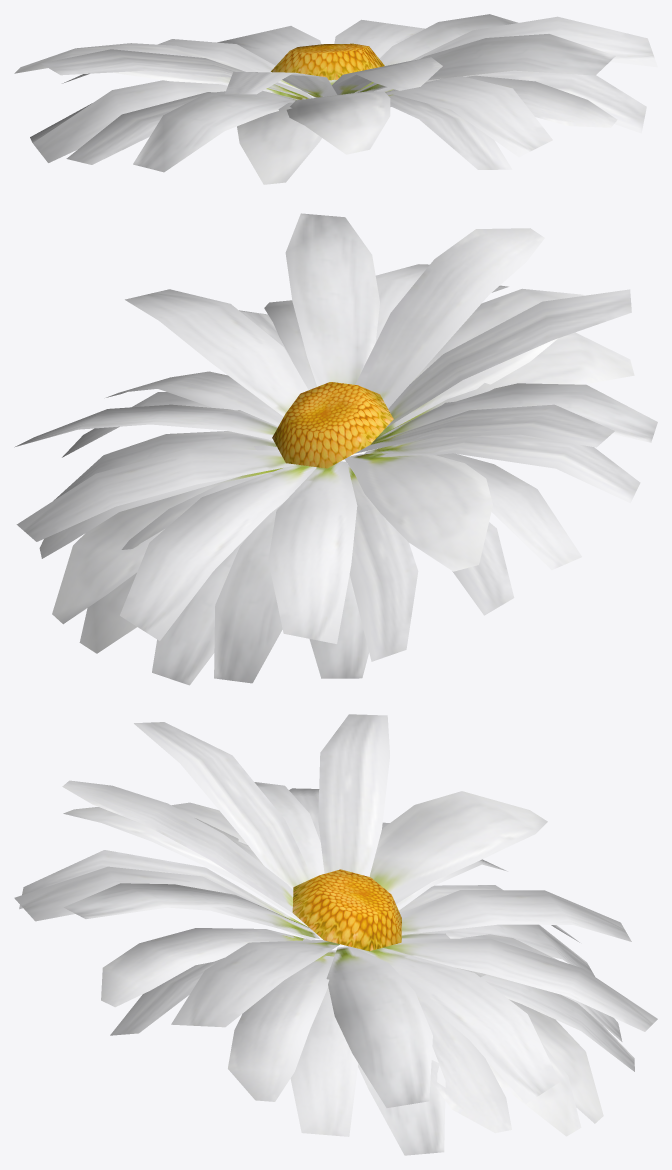
File: chamomile_petals.glb
3 renders of one model, top to bottom at view 1: azimuth 30°, elevation 25°; view 2: azimuth 150°, elevation 25°; view 3: azimuth 270°, elevation 25°, orthographic. The views are drawn at different scales.
Visible parts, largest first — view 1: Chamomile_Bush3; view 2: Chamomile_Bush3; view 3: Chamomile_Bush3.
Part boxes in pixels (x1,y1,x2,y2): Chamomile_Bush3: [14, 14, 657, 184]; Chamomile_Bush3: [14, 213, 657, 685]; Chamomile_Bush3: [14, 714, 657, 1155].
Bounding box in the file's own units: 0.0676 × 0.0298 × 0.0681.
1 material, 1 textured.
